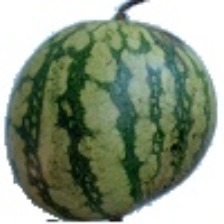watermelon: (35, 34, 220, 204)
